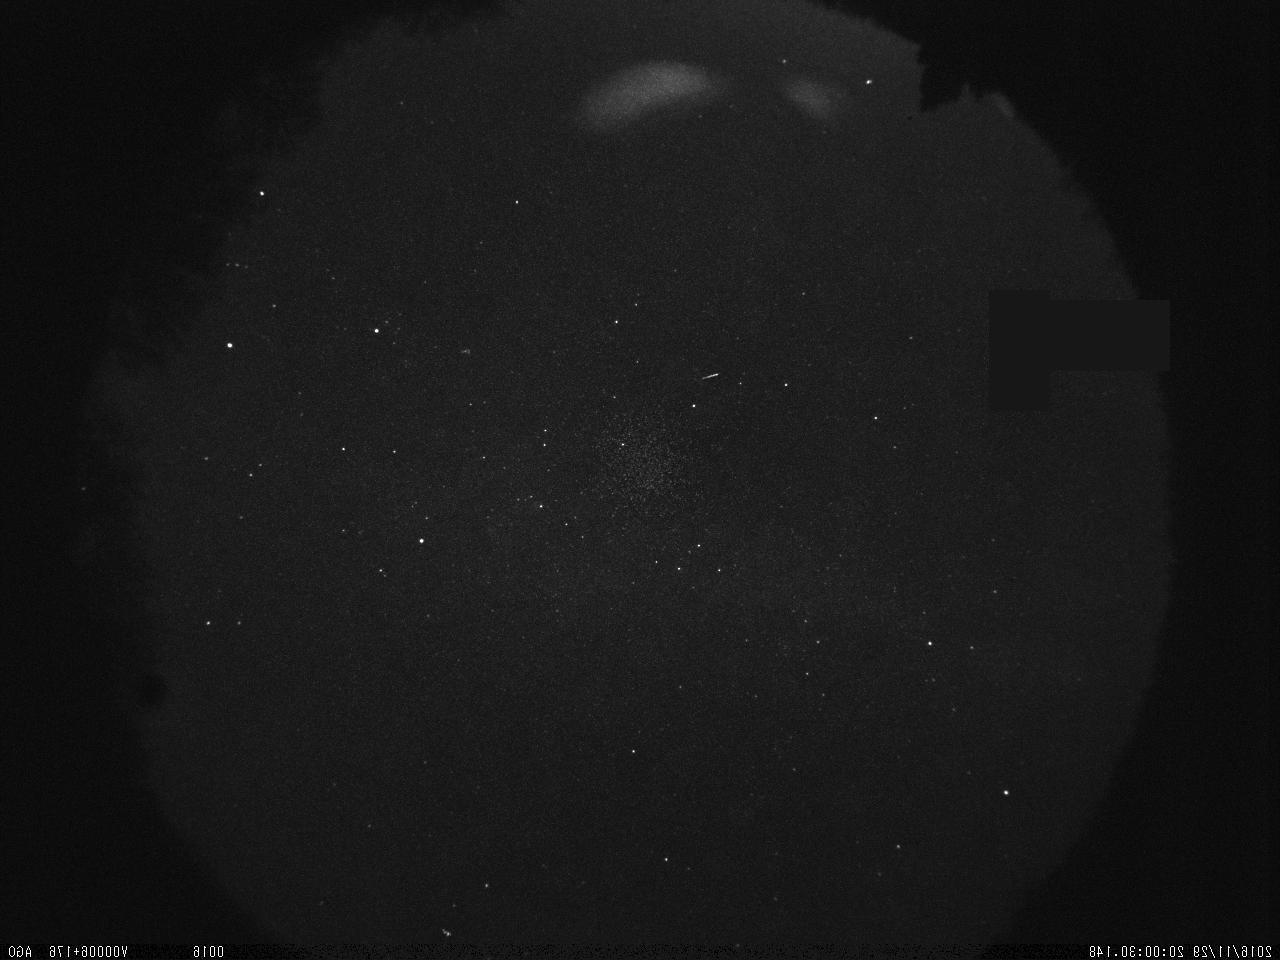meteor: (694, 360, 733, 398)
